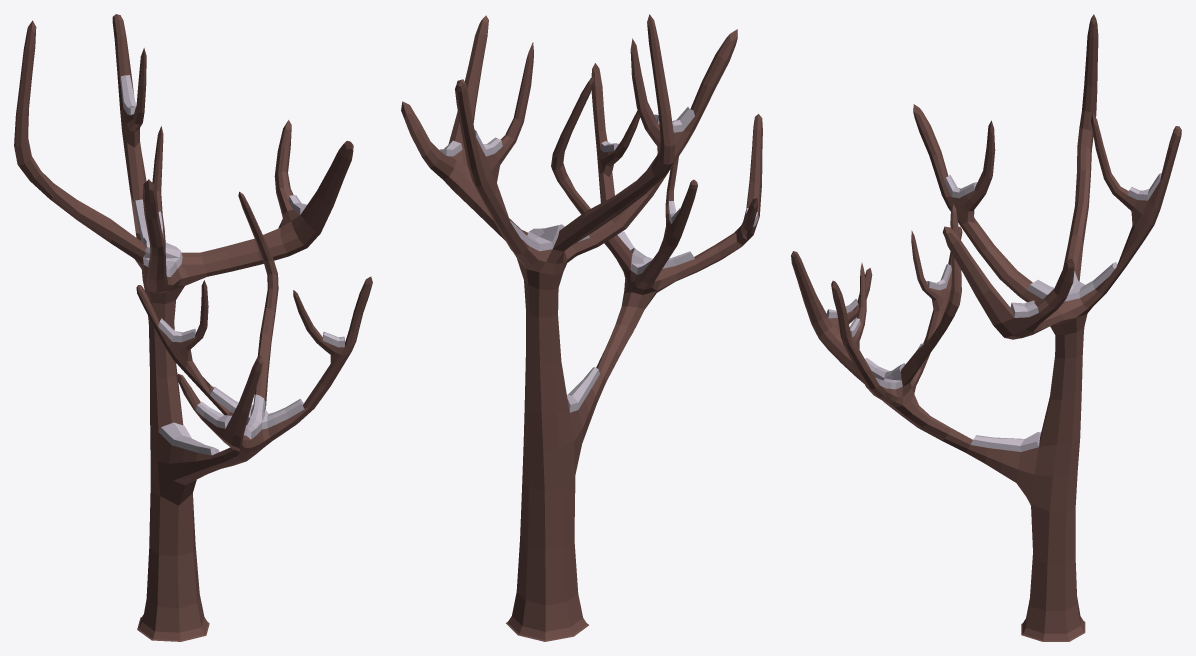
The model's file is commontree_dead_snow_2.glb.
3 views of the same model, side by side, from view 1: azimuth 30°, elevation 25°; view 2: azimuth 150°, elevation 25°; view 3: azimuth 270°, elevation 25° (orthographic). The views are drawn at different scales.
Visible parts, largest first — view 1: CommonTree_Dead_Snow_2; view 2: CommonTree_Dead_Snow_2; view 3: CommonTree_Dead_Snow_2.
Part boxes in pixels (bbox=[...]): CommonTree_Dead_Snow_2: bbox=[14, 14, 372, 641]; CommonTree_Dead_Snow_2: bbox=[401, 14, 762, 641]; CommonTree_Dead_Snow_2: bbox=[791, 14, 1181, 641].
Bounding box in the file's own units: 1.33 × 2.96 × 1.86.
